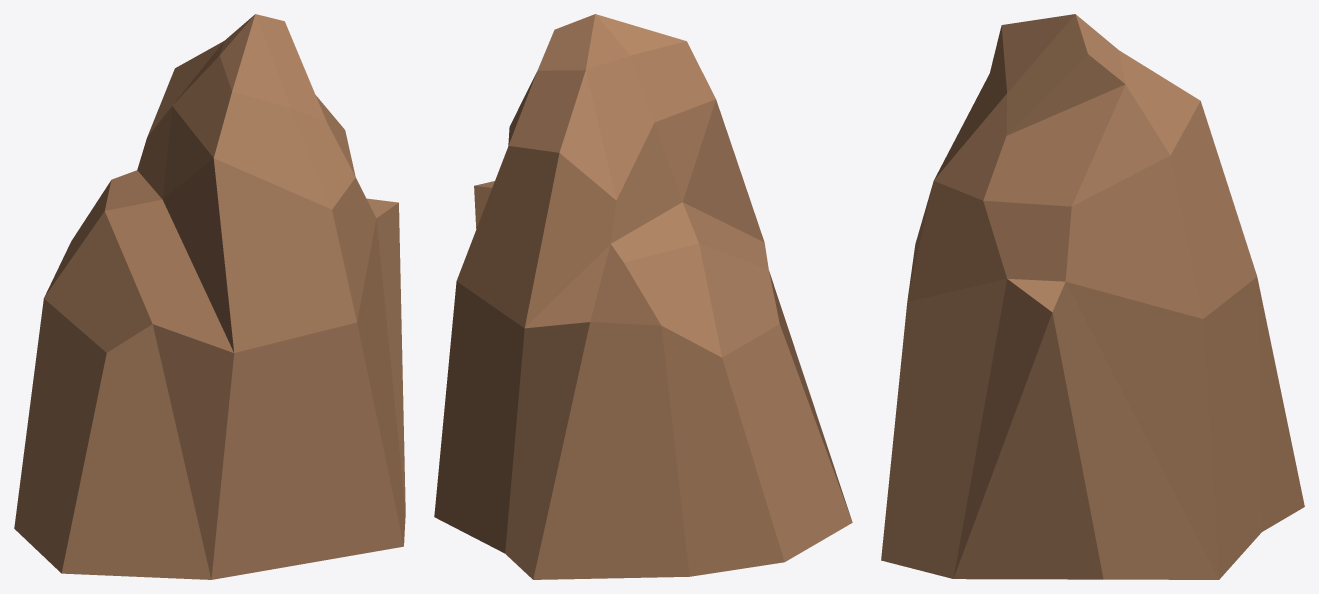
File: Shore_rocks_06.fbx
3 views of the same model, side by side, from view 1: azimuth 30°, elevation 25°; view 2: azimuth 150°, elevation 25°; view 3: azimuth 270°, elevation 25° (orthographic). The views are drawn at different scales.
Parts seen in each view (by area): view 1: shore_rock_06; view 2: shore_rock_06; view 3: shore_rock_06.
Part boxes in pixels (<box>): shore_rock_06: <box>14,14,405,579</box>; shore_rock_06: <box>434,14,852,579</box>; shore_rock_06: <box>881,14,1304,579</box>.
Bounding box in the file's own units: 441 × 564 × 420.
